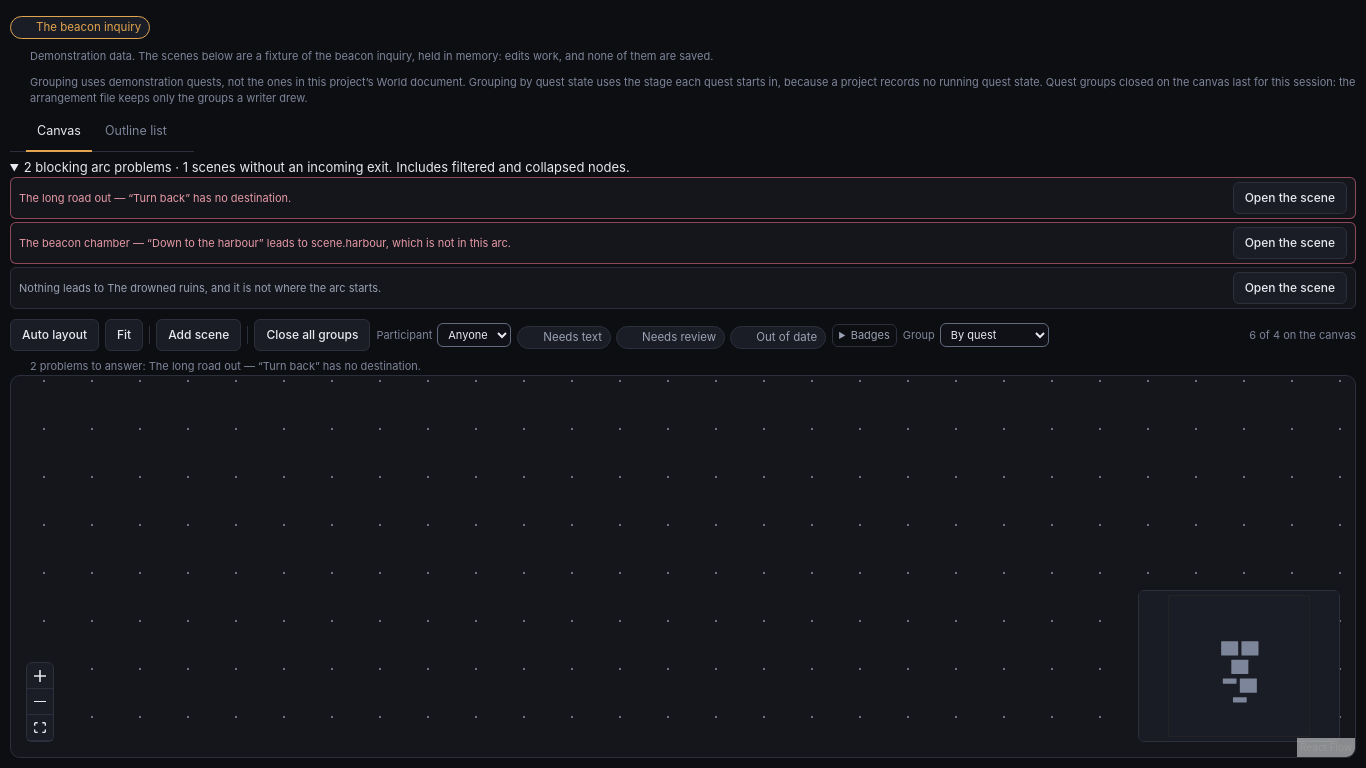
Test: following a diagnostic down a level › opens the scene at the beat that authored the destination
This screenshot has width=1366, height=768.
Click the 1st button "Open the scene": (1290, 198) top-left (1233, 182), bottom-right (1347, 214)
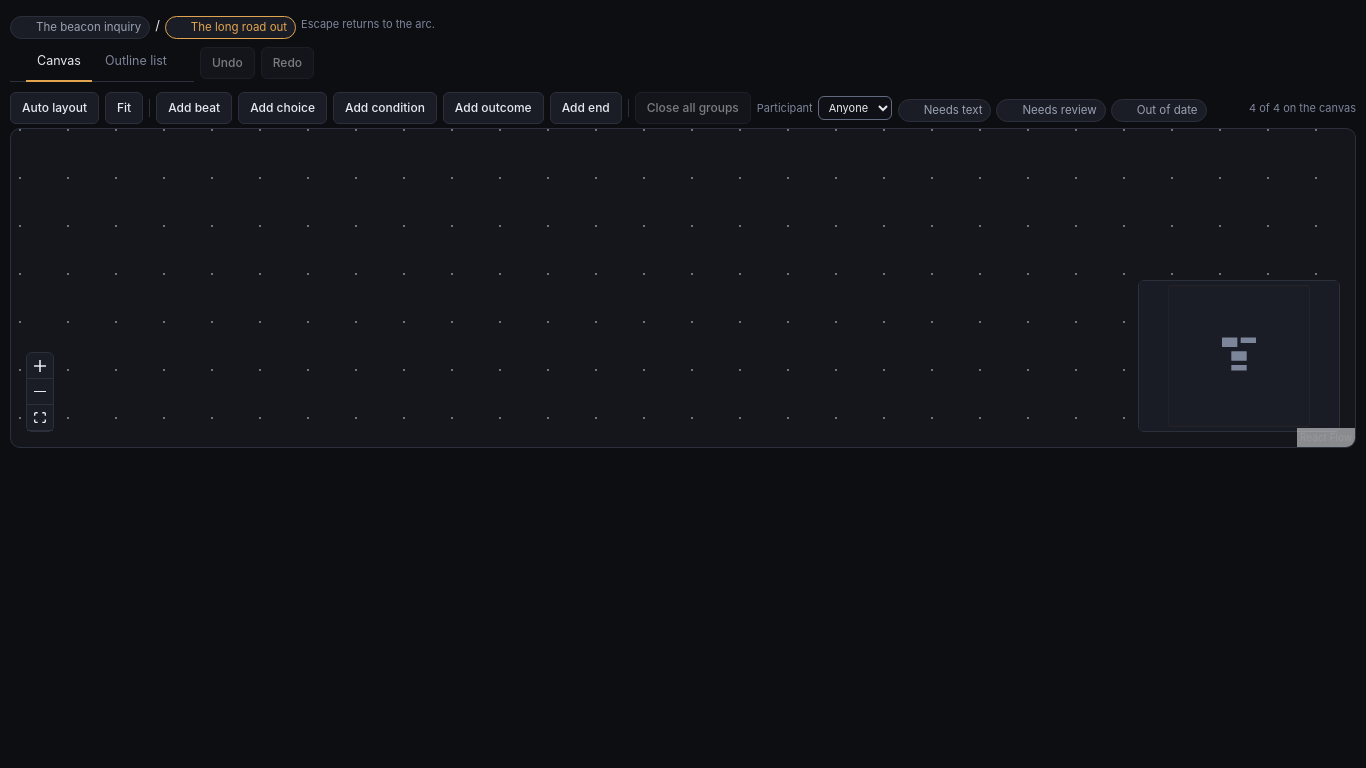
Expected: the navigation bar named "Flow level" shows "The long road out", top-left (191, 20), bottom-right (287, 34)
